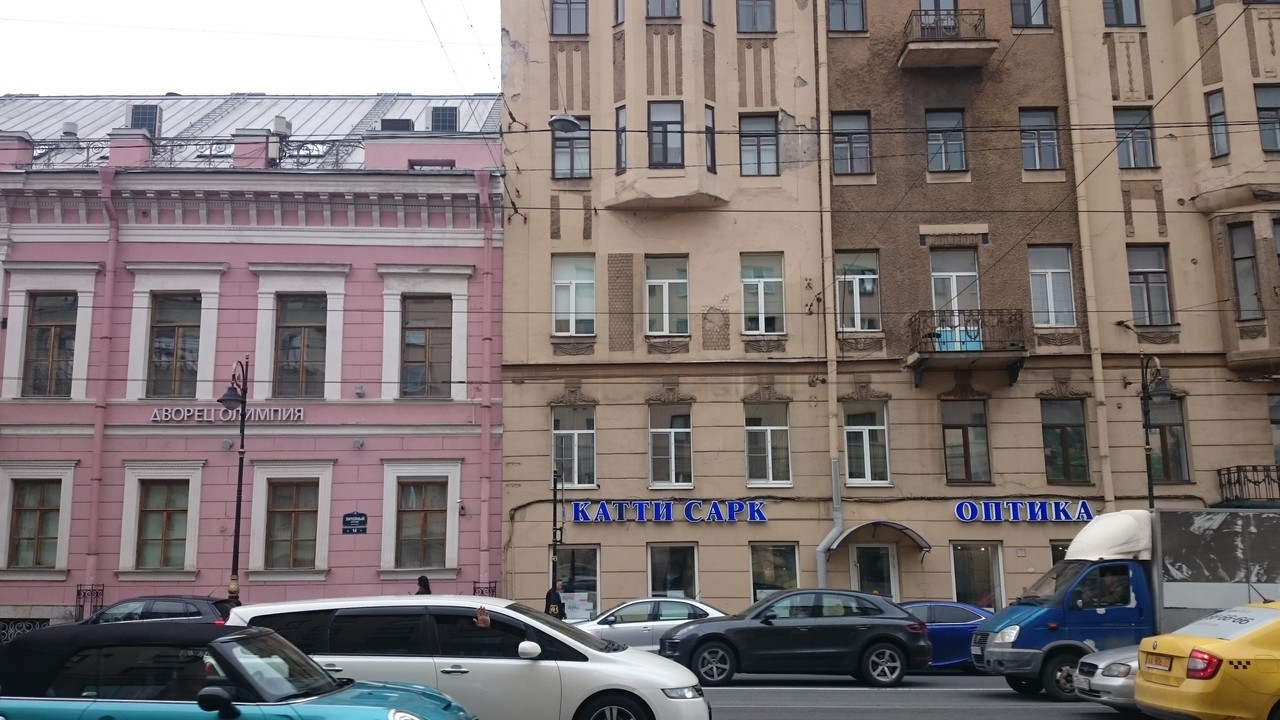door: (929, 247, 980, 347)
signboard: (568, 498, 769, 524), (954, 497, 1094, 523), (153, 403, 306, 426)
window: (19, 290, 78, 401), (271, 292, 329, 400), (142, 292, 198, 400), (402, 292, 453, 400), (392, 479, 450, 570), (266, 477, 319, 570), (133, 480, 187, 571), (1038, 396, 1091, 487), (942, 397, 995, 487), (1142, 394, 1192, 487), (1030, 235, 1079, 328), (645, 247, 691, 336), (547, 543, 598, 622), (833, 251, 882, 333), (950, 541, 1005, 614), (740, 401, 789, 482), (843, 398, 889, 484), (14, 480, 56, 570), (552, 408, 598, 488), (551, 251, 593, 334), (651, 401, 691, 487), (1126, 246, 1171, 322), (742, 252, 782, 335), (644, 542, 697, 602), (749, 544, 800, 603), (1112, 107, 1157, 167), (926, 110, 966, 176), (833, 111, 871, 177), (649, 100, 685, 168), (1023, 106, 1058, 173), (743, 113, 780, 174), (552, 131, 589, 179)
